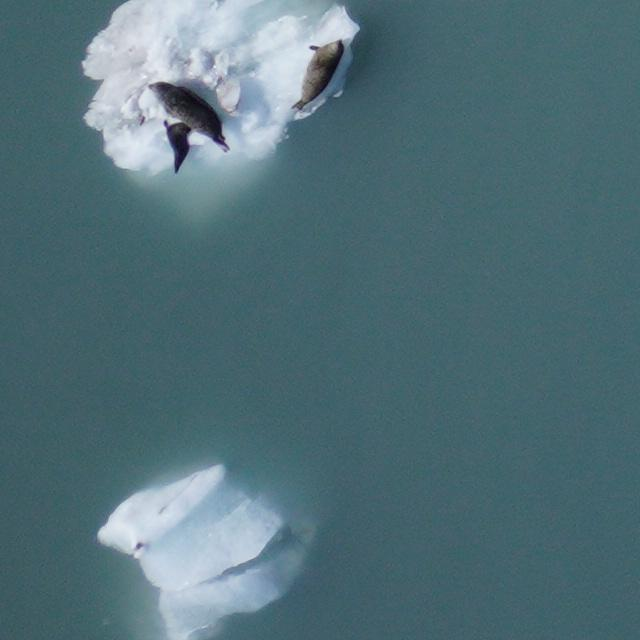seal: (140, 66, 247, 160), (284, 28, 349, 121), (162, 114, 202, 175)
